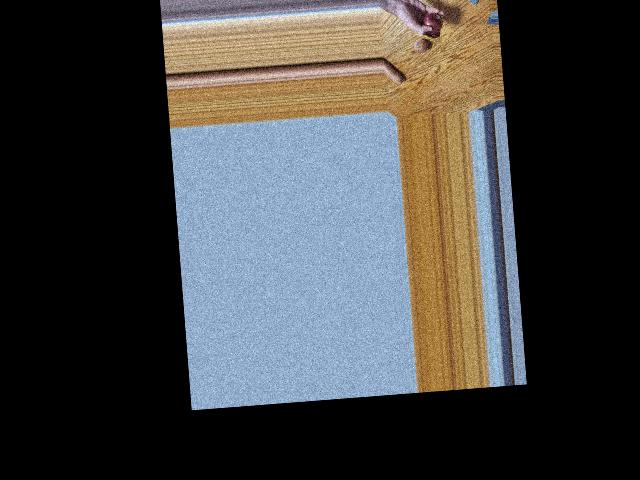onion: (422, 11, 443, 34)
